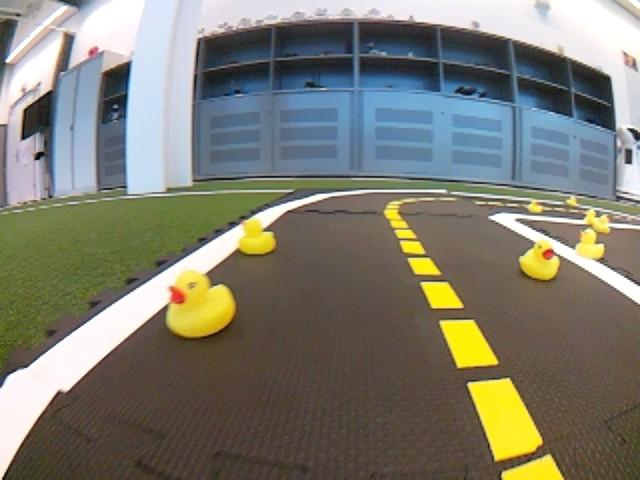Duckies: (165, 270, 236, 338), (519, 243, 559, 280), (238, 219, 277, 254), (575, 229, 605, 259), (591, 217, 610, 233), (527, 201, 544, 213), (585, 210, 597, 224), (566, 195, 576, 205)
